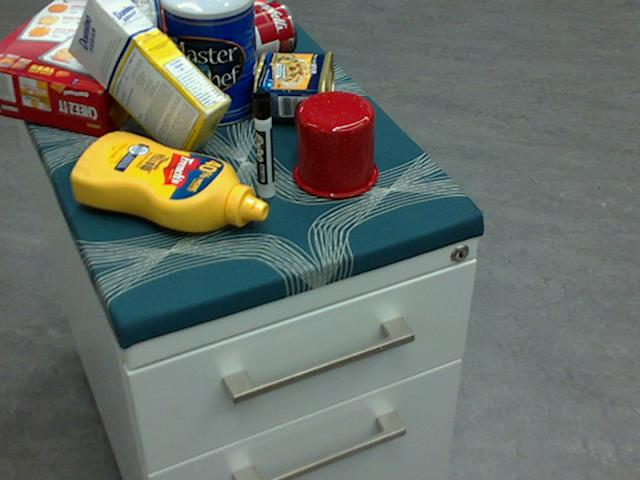cracker_box: (0, 0, 189, 139)
gelatin_box: (198, 0, 272, 40)
large_marker: (252, 88, 273, 196)
master_chef_can: (160, 0, 258, 126)
mug: (290, 90, 376, 198)
mustard_bottle: (70, 132, 268, 231)
potted_meat_can: (253, 50, 333, 126)
sugar_box: (69, 0, 233, 163)
tomato_soup_can: (201, 0, 297, 72)
tuna_fish_can: (116, 0, 161, 60)
